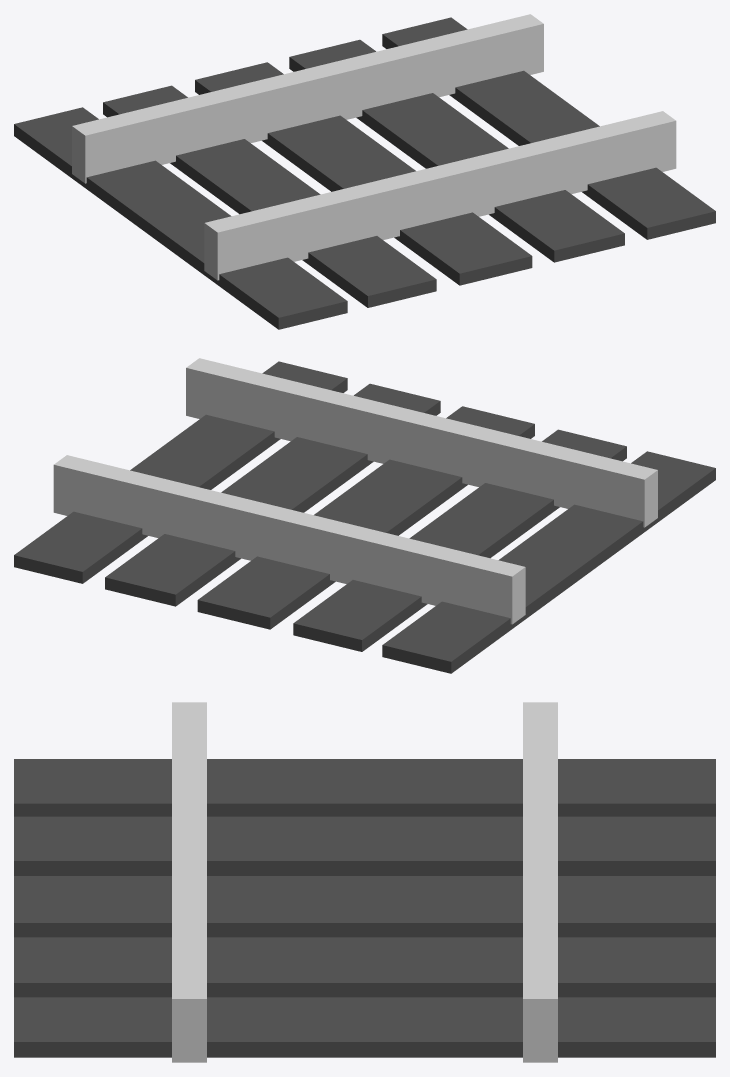
The model's file is TrainTrack.fbx.
3 renders of one model, top to bottom at view 1: azimuth 30°, elevation 25°; view 2: azimuth 150°, elevation 25°; view 3: azimuth 270°, elevation 25°, orthographic. The views are drawn at different scales.
Parts seen in each view (by area): view 1: group5_pasted__pCube2; view 2: group5_pasted__pCube2; view 3: group5_pasted__pCube2.
Boxes of the visible parts, bbox=[...] form: group5_pasted__pCube2: bbox=[14, 14, 715, 329]; group5_pasted__pCube2: bbox=[14, 358, 715, 673]; group5_pasted__pCube2: bbox=[14, 702, 715, 1062].
Size of the model in its own units: 2 by 0.2251 by 2.
